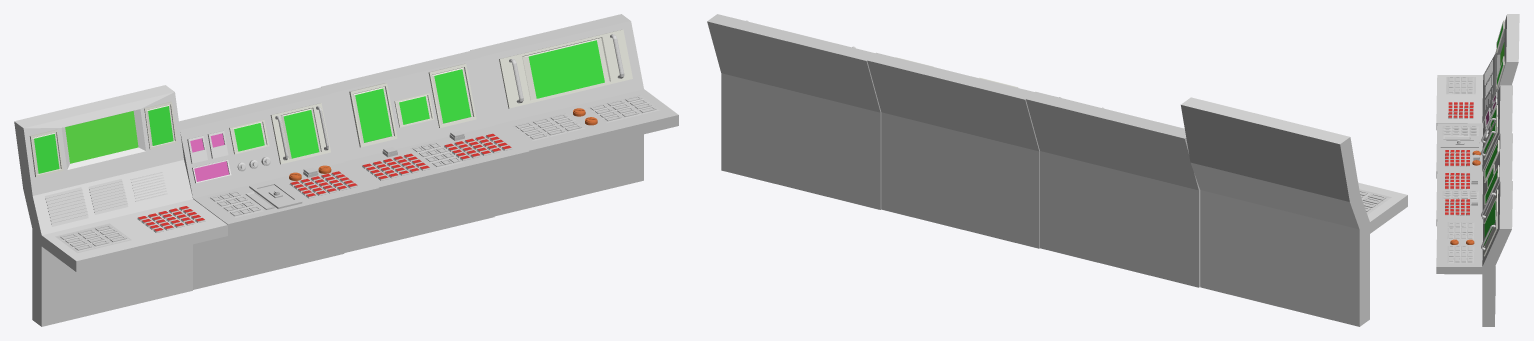
Rendered from Control Panel2.fbx.
The picture shows the model from 3 angles, left to right: view 1: azimuth 30°, elevation 25°; view 2: azimuth 150°, elevation 25°; view 3: azimuth 270°, elevation 25°; orthographic projection. The views are drawn at different scales.
Parts seen in each view (by area): view 1: Cube.042, Cube.031, Cube.043, Cube.044, Cube.057, Cube.036, Cube.054, Cube.053, Cube.056, Cube.051, Cube.055, Cube.050 (+14 smaller); view 2: Cube.042, Cube.044, Cube.031, Cube.043; view 3: Cube.044, Cube.042, Cube.043, Cube.031, Cube.057, Cube.051, Cube.055, Cube.056, Cube.032, Cube.052, Cube.047, Cube.045 (+19 smaller).
Part boxes in pixels (x1,y1,x2,y2): Cube.042: (14, 85, 227, 326); Cube.031: (179, 87, 379, 289); Cube.043: (321, 50, 529, 252); Cube.044: (470, 14, 678, 216); Cube.057: (499, 29, 632, 108); Cube.036: (270, 103, 330, 164); Cube.054: (349, 83, 397, 147); Cube.053: (428, 63, 476, 127); Cube.056: (585, 94, 661, 123); Cube.051: (55, 223, 131, 253); Cube.055: (510, 112, 586, 141); Cube.050: (29, 129, 63, 177); Cube.042: (1181, 97, 1407, 326); Cube.044: (707, 14, 881, 209); Cube.031: (1026, 91, 1200, 287); Cube.043: (866, 52, 1039, 248); Cube.044: (1436, 181, 1512, 326); Cube.042: (1436, 14, 1519, 130); Cube.043: (1436, 133, 1512, 226); Cube.031: (1436, 85, 1512, 178); Cube.057: (1483, 189, 1498, 256); Cube.051: (1446, 77, 1475, 94); Cube.055: (1446, 222, 1475, 239); Cube.056: (1446, 246, 1475, 263); Cube.032: (1440, 126, 1481, 135); Cube.052: (1448, 102, 1473, 118); Cube.047: (1440, 190, 1481, 199); Cube.045: (1445, 173, 1470, 189).
Size of the model in its own units: 521 by 153 by 95.45.
